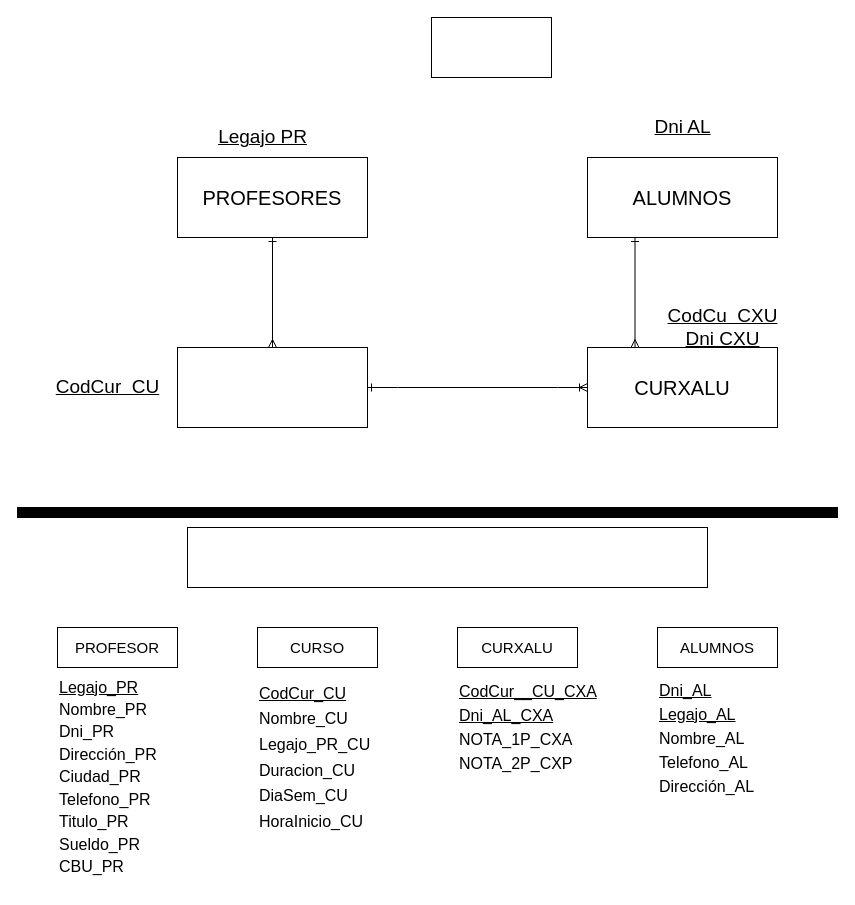
Some shapes in this 855 by 905 pixel diagram are drawn without their labels. The centre of each missing label's shape, as x and y in pixels:
"CURSOS" goes at point 272,387.
"DD - DICCIONARIO DE DATOS" goes at point 447,557.
"DER" goes at point 491,47.
